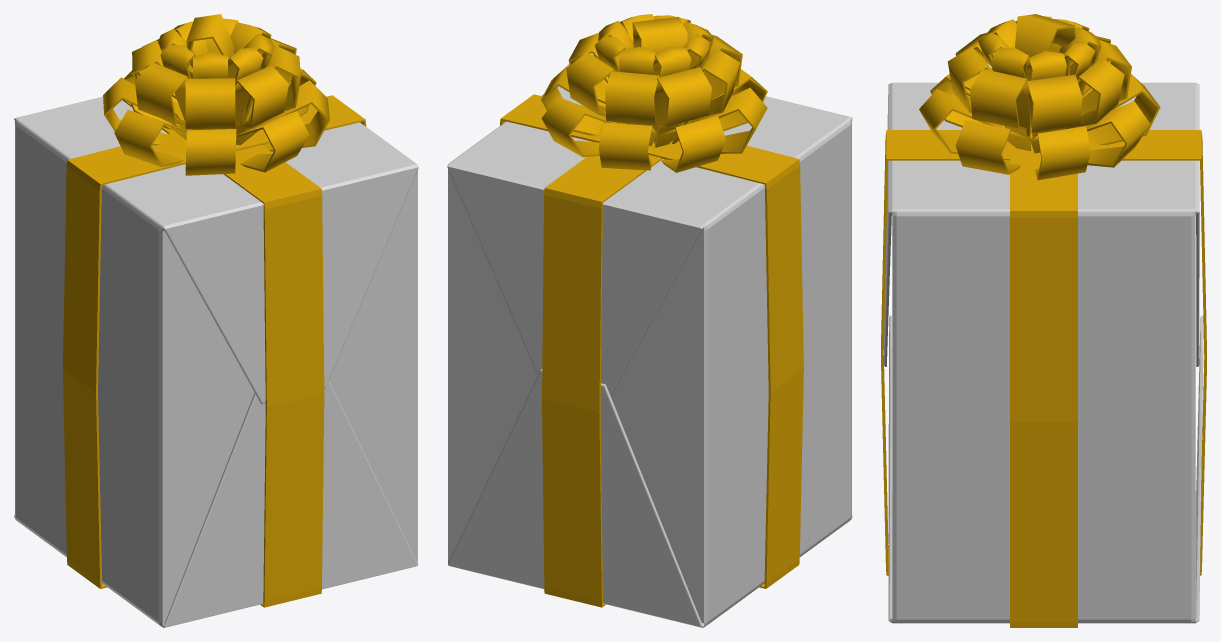
File: gift4.glb
3 renders of one model, left to right at view 1: azimuth 30°, elevation 25°; view 2: azimuth 150°, elevation 25°; view 3: azimuth 270°, elevation 25°, orthographic. The views are drawn at different scales.
Parts seen in each view (by area): view 1: Box05, Ribbon05, Bow05; view 2: Box05, Ribbon05, Bow05; view 3: Box05, Ribbon05, Bow05.
Boxes of the visible parts, x1,y1,x2,y2 form: Box05: (14,96,418,627); Ribbon05: (63,95,366,607); Bow05: (103,14,329,175); Box05: (447,86,852,627); Ribbon05: (500,94,803,607); Bow05: (541,14,767,172); Box05: (884,82,1203,623); Ribbon05: (881,130,1206,627); Bow05: (919,14,1160,180).
Size of the model in its own units: 0.1383 by 0.2526 by 0.1383.
